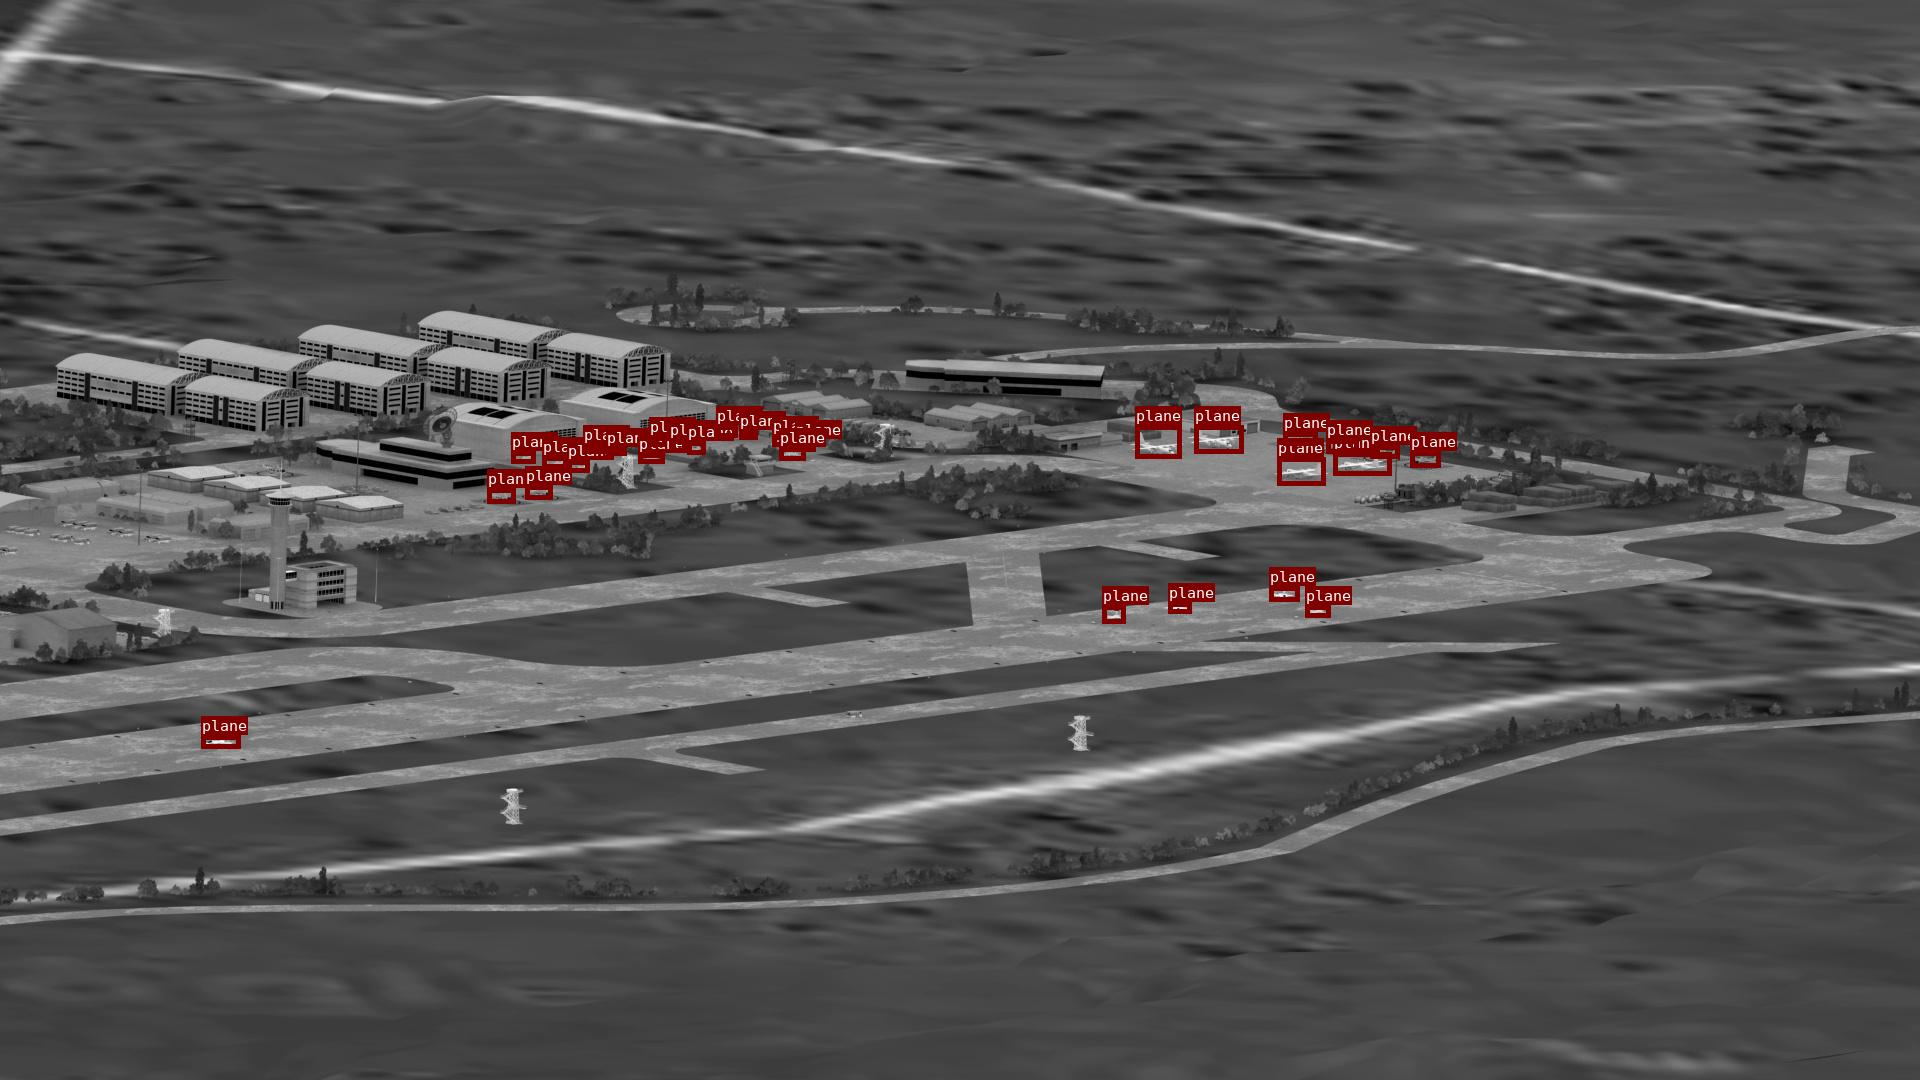plane: (1135, 425, 1182, 458), (1193, 425, 1244, 454), (1276, 458, 1325, 485), (1333, 452, 1391, 475), (200, 735, 240, 748), (1269, 585, 1299, 601), (1410, 451, 1440, 467), (1327, 439, 1358, 454), (487, 488, 516, 502), (1283, 433, 1317, 444), (1102, 605, 1125, 622), (1370, 444, 1399, 458), (525, 485, 553, 498), (779, 447, 804, 460), (1305, 605, 1331, 617), (542, 456, 567, 468), (512, 451, 535, 463), (567, 460, 589, 472), (716, 425, 737, 436), (638, 454, 665, 463), (687, 440, 705, 454), (1168, 603, 1191, 613), (795, 439, 815, 451), (669, 439, 686, 452), (771, 435, 793, 446), (583, 444, 607, 454), (738, 430, 757, 439), (649, 436, 666, 446), (607, 447, 626, 455)
